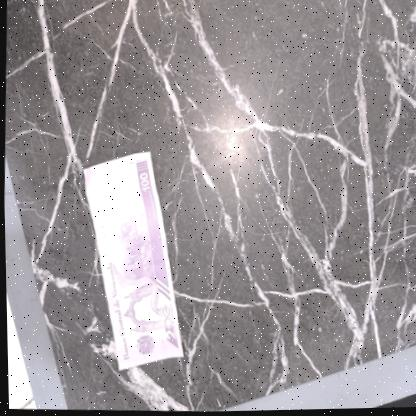one_hundred-back-vef: (75, 149, 190, 375)
